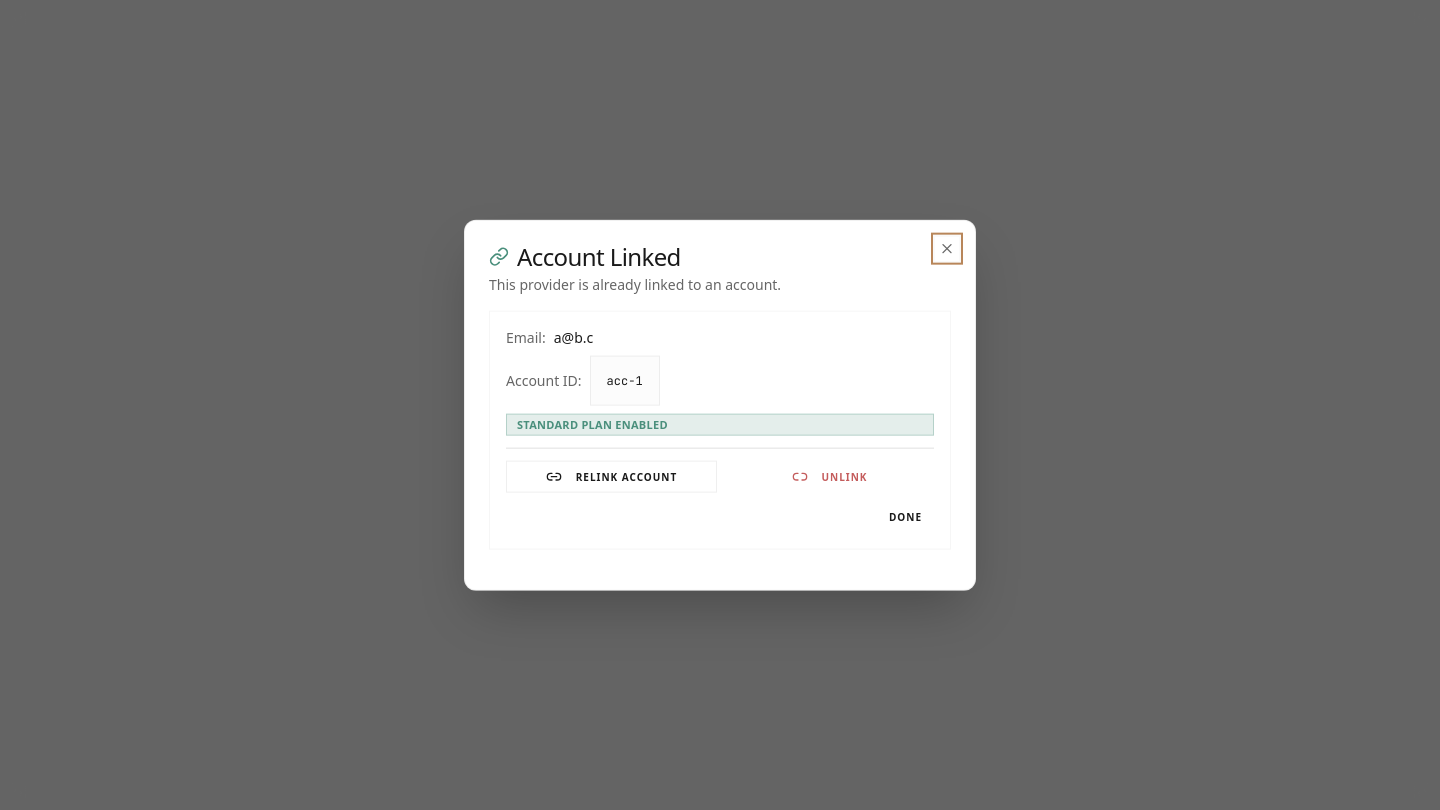
Test case: ExternalAuthDialog unlink confirmation › shows a success window with actions after unlinking
The image size is (1440, 810).
Note: Linked state first: the dialog opens on the success surface.
Click the button "Unlink": (830, 476) [725, 460, 934, 492]
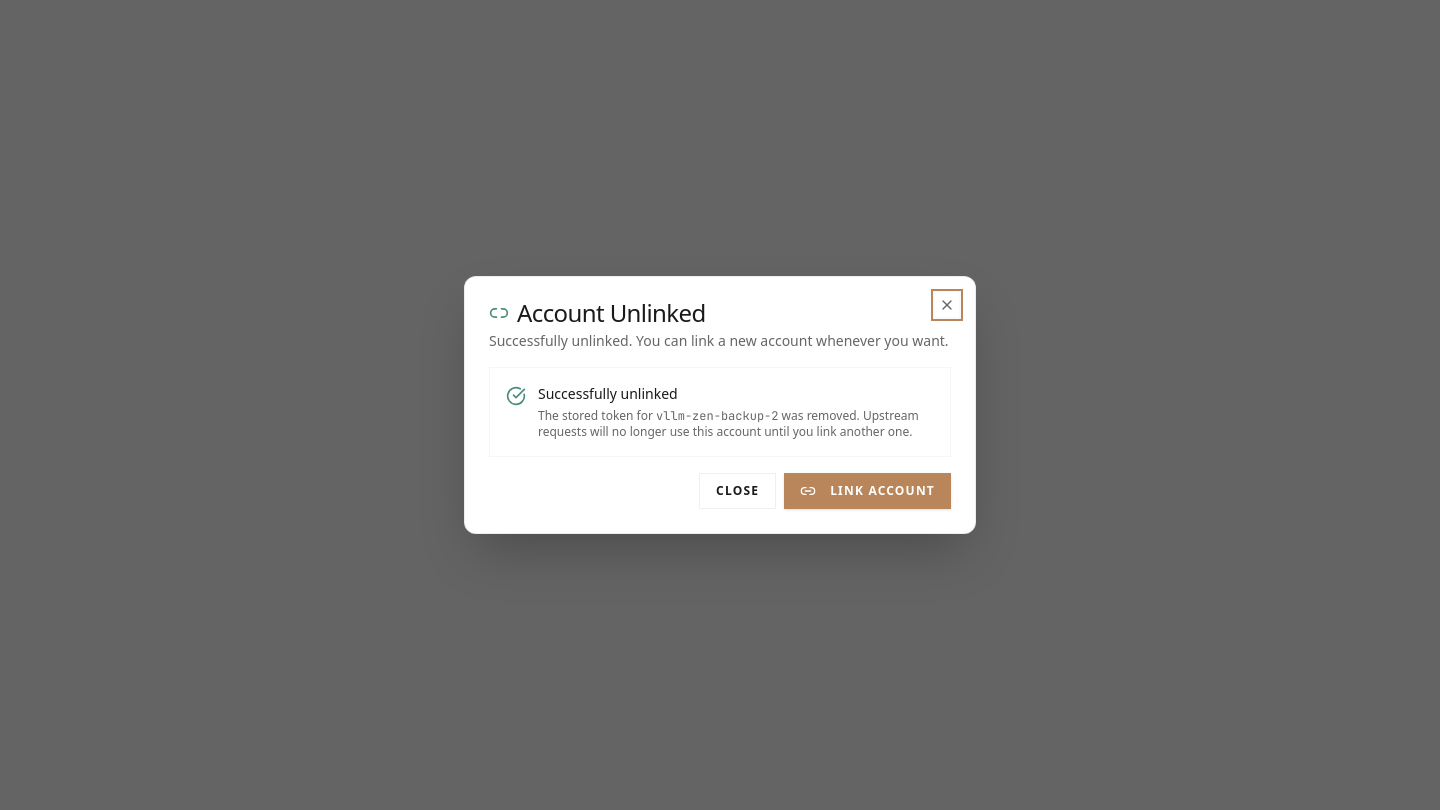
Result: the heading "Account Unlinked" is shown at [489, 296, 706, 329]
Result: the text "Successfully unlinked" is shown at [489, 331, 949, 350]
Result: the text "stored token for" is shown at [538, 407, 656, 424]
